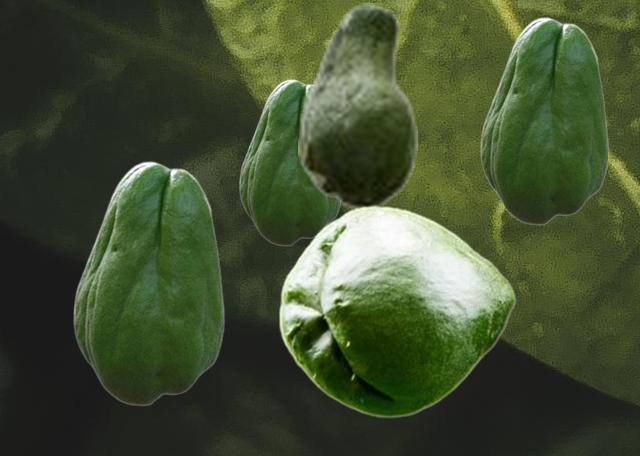sayote: (278, 205, 515, 417), (73, 161, 224, 405), (480, 17, 608, 224), (298, 3, 416, 210), (239, 79, 340, 245)
